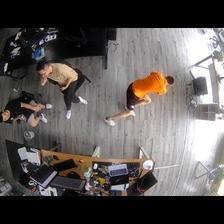fall: (104, 72, 177, 123)
normal: (36, 61, 89, 117)
